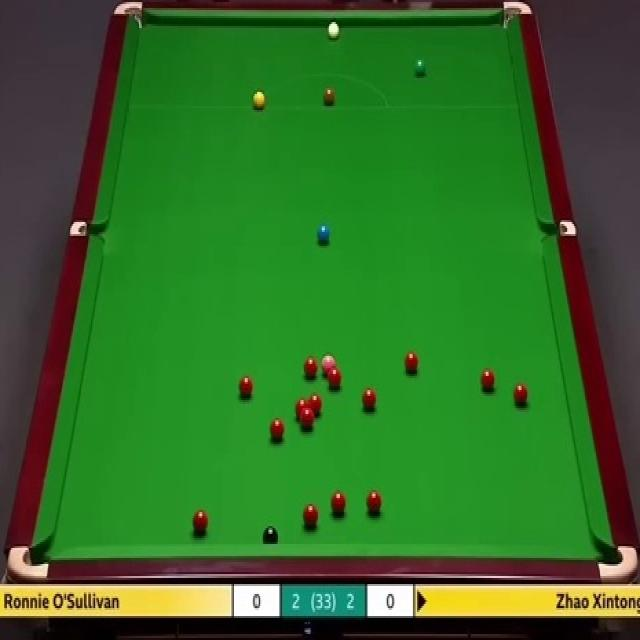black-ball: (262, 526, 279, 545)
blue-ball: (316, 220, 330, 245)
brown-ball: (323, 88, 335, 106)
green-ball: (412, 58, 427, 78)
pink-ball: (323, 354, 336, 376)
red-ball: (403, 349, 420, 378), (513, 383, 529, 410), (192, 509, 209, 534), (480, 366, 497, 391), (366, 489, 382, 515), (239, 377, 255, 401), (331, 491, 346, 516), (361, 387, 376, 412), (304, 503, 318, 528), (308, 394, 322, 418), (270, 418, 284, 441), (328, 366, 342, 388), (304, 359, 318, 378), (301, 410, 314, 430), (295, 398, 308, 418)
white-ball: (327, 16, 341, 42)
yellow-ball: (252, 89, 265, 109)
